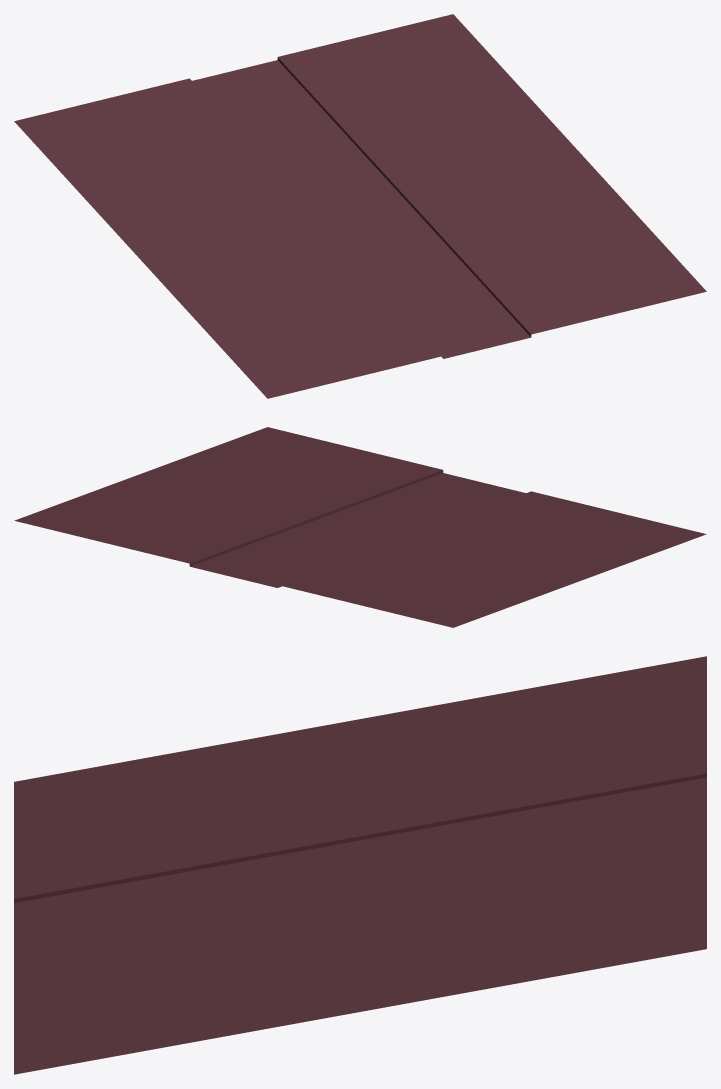
The model's file is tiles-nb-tile-road-hill-nb.glb.
The picture shows the model from 3 angles, top to bottom: view 1: azimuth 30°, elevation 25°; view 2: azimuth 150°, elevation 25°; view 3: azimuth 270°, elevation 25°; orthographic projection. The views are drawn at different scales.
Visible parts, largest first — view 1: tile-road-hill-nb; view 2: tile-road-hill-nb; view 3: tile-road-hill-nb.
Boxes of the visible parts, x1=… form: tile-road-hill-nb: x1=14, y1=14, x2=706, y2=398; tile-road-hill-nb: x1=14, y1=427, x2=706, y2=627; tile-road-hill-nb: x1=14, y1=656, x2=706, y2=1074.
Bounding box in the file's own units: 30 × 6.2 × 30.
